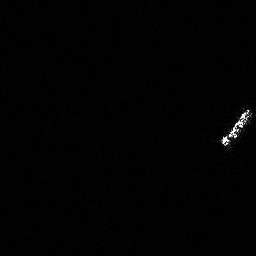ship: (218, 106, 256, 151)
